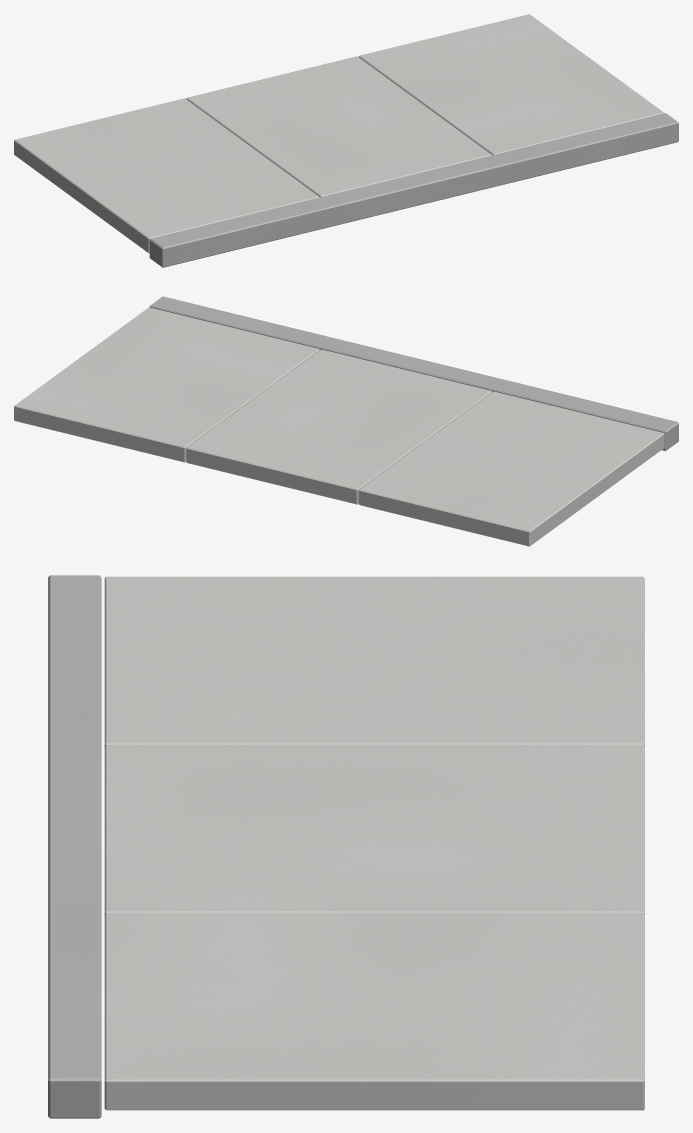
The model's file is sidewalk_4x2.glb.
The picture shows the model from 3 angles, top to bottom: view 1: azimuth 30°, elevation 25°; view 2: azimuth 150°, elevation 25°; view 3: azimuth 270°, elevation 25°; orthographic projection. The views are drawn at different scales.
Parts seen in each view (by area): view 1: Sidewalk; view 2: Sidewalk; view 3: Sidewalk.
Part boxes in pixels (box(x1,y1,x2,y2)): Sidewalk: box(14, 14, 678, 267); Sidewalk: box(14, 296, 678, 546); Sidewalk: box(48, 575, 644, 1118).
Size of what is drawn, in the model's own units: 4 by 0.15 by 2.
Materials: 1 (1 with a texture image).
